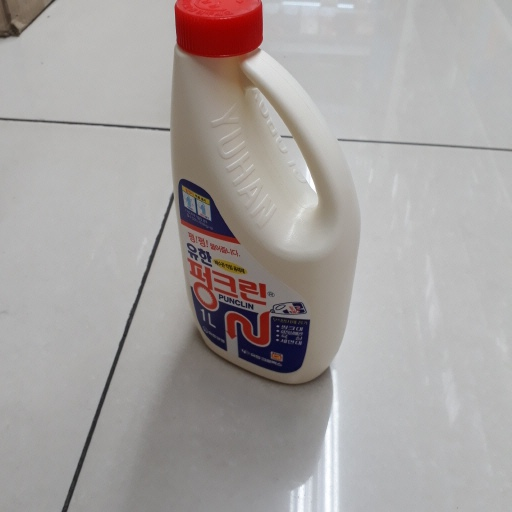Plastic_1: (165, 1, 362, 388)
